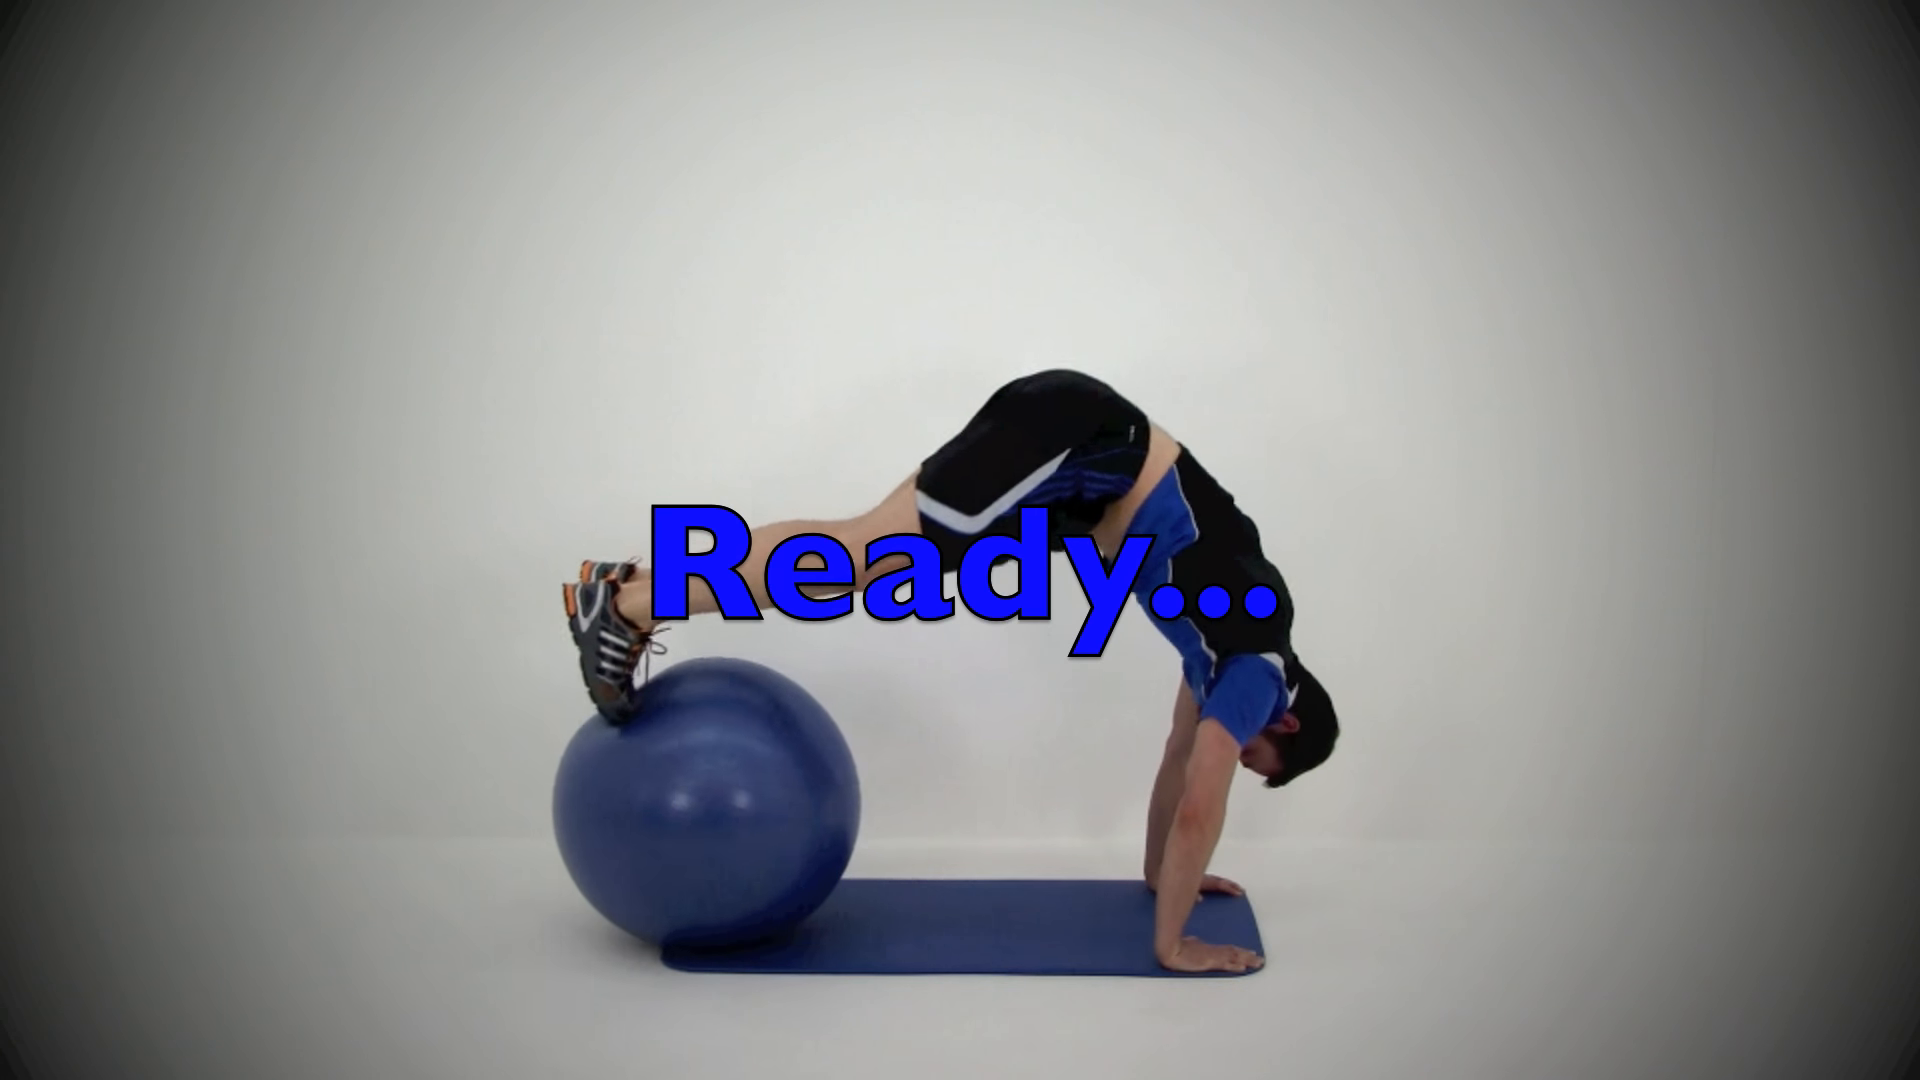yogaball: (533, 657, 878, 957)
